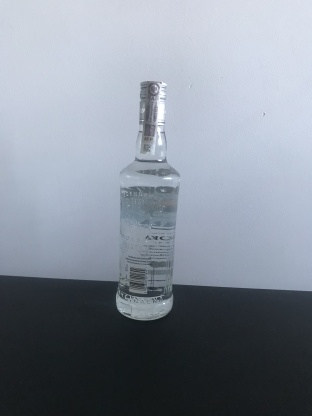nakretka: (137, 77, 168, 128)
